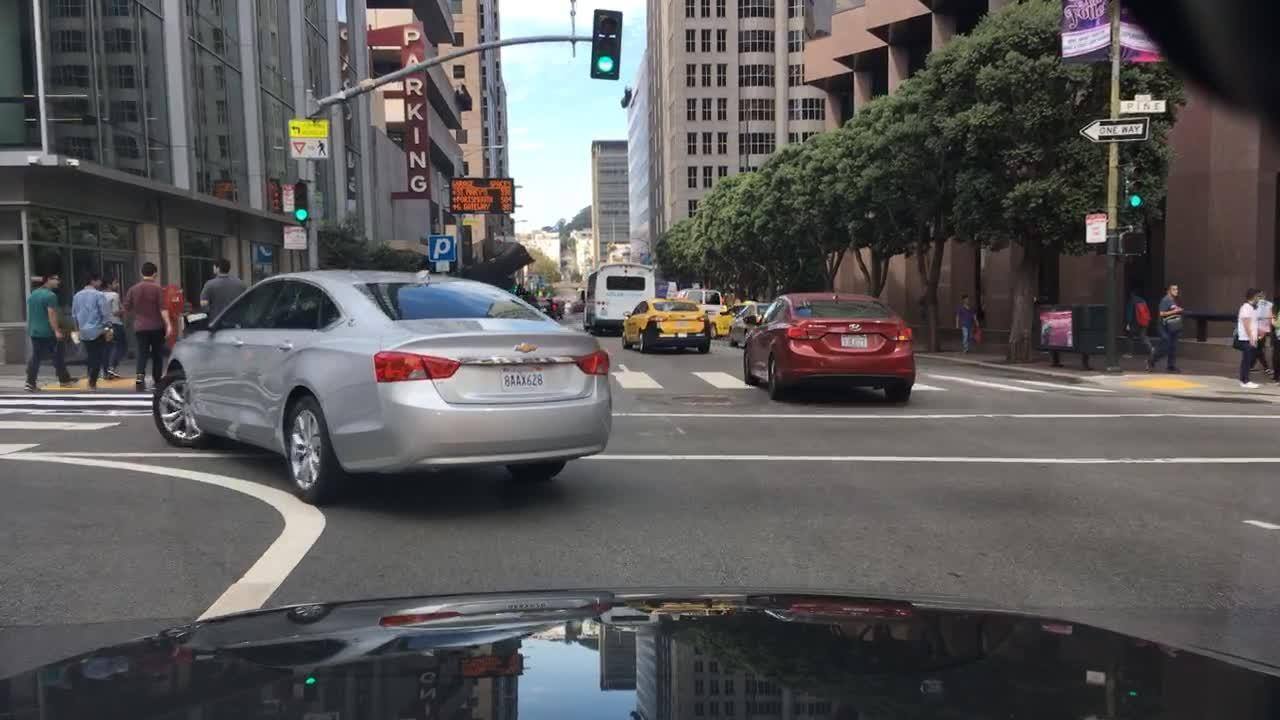Hyundai: (847, 320, 862, 332)
chevrolet: (506, 333, 544, 364)
